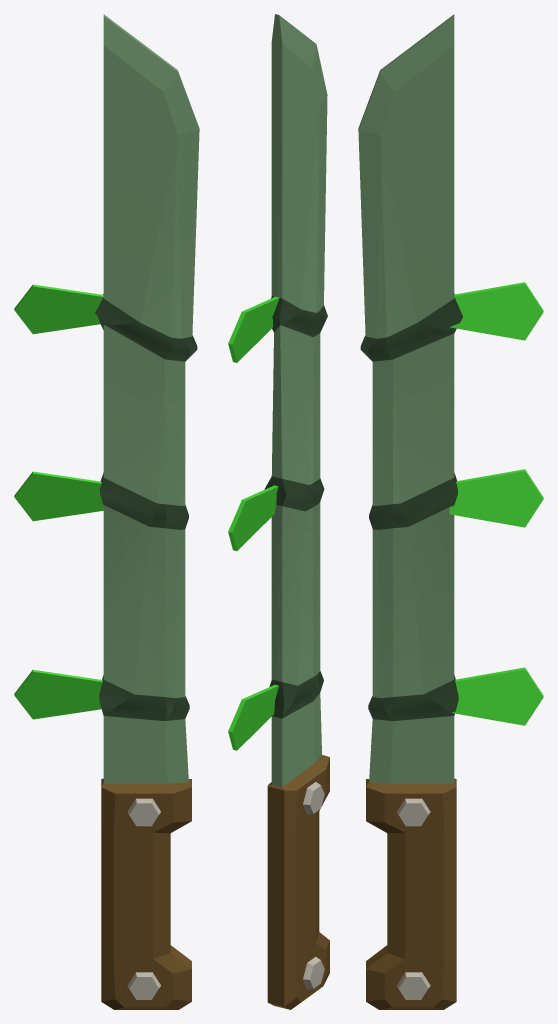
Rendered from Machette.fbx.
3 renders of one model, left to right at view 1: azimuth 90°, elevation 25°; view 2: azimuth 150°, elevation 25°; view 3: azimuth 270°, elevation 25°, orthographic.
Visible parts, largest first — view 1: SM_Wep_Machete_03; view 2: SM_Wep_Machete_03; view 3: SM_Wep_Machete_03.
Boxes of the visible parts, box(x1,y1,x2,y2) form: SM_Wep_Machete_03: box(14, 14, 199, 1009); SM_Wep_Machete_03: box(228, 14, 329, 1009); SM_Wep_Machete_03: box(358, 14, 543, 1009).
Bounding box in the file's own units: 4.18 × 101 × 17.08.
